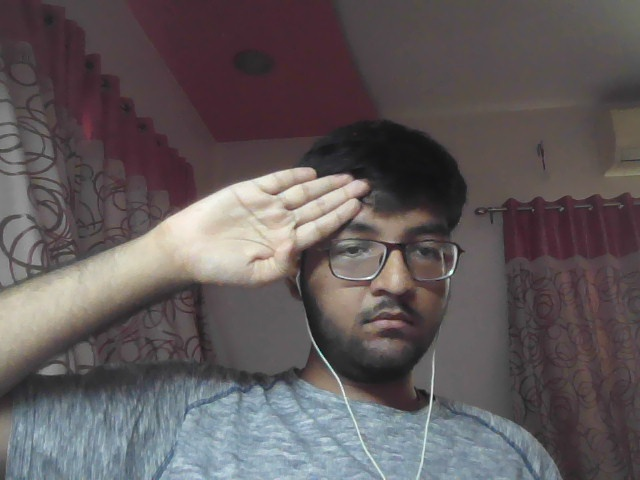નમસ્તે: (141, 161, 375, 289)
